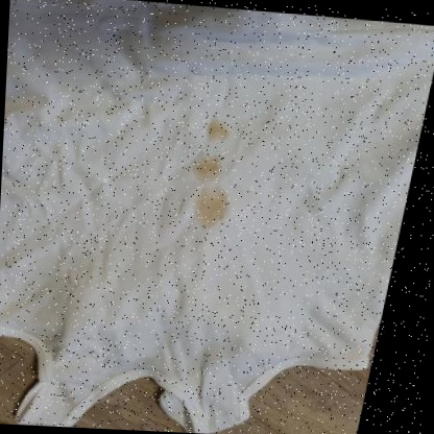coffee: (196, 190, 228, 228), (196, 155, 221, 181), (208, 122, 228, 143)
